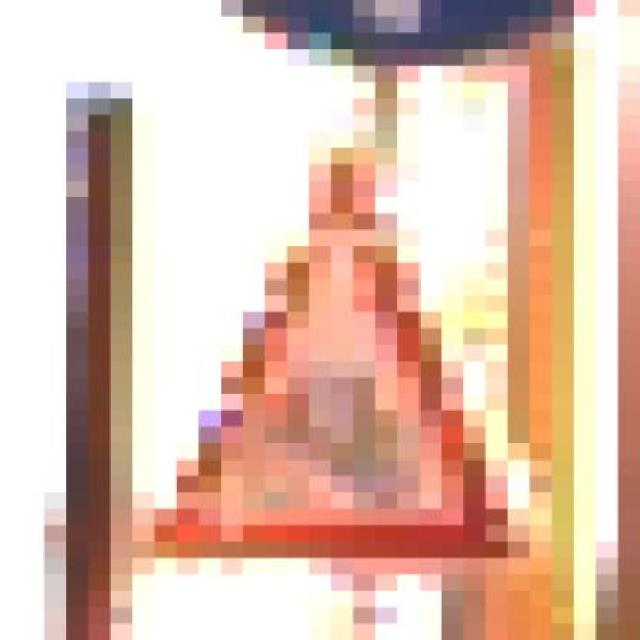CYCLE ROUTE AHEAD WARNING: (110, 98, 552, 608)
